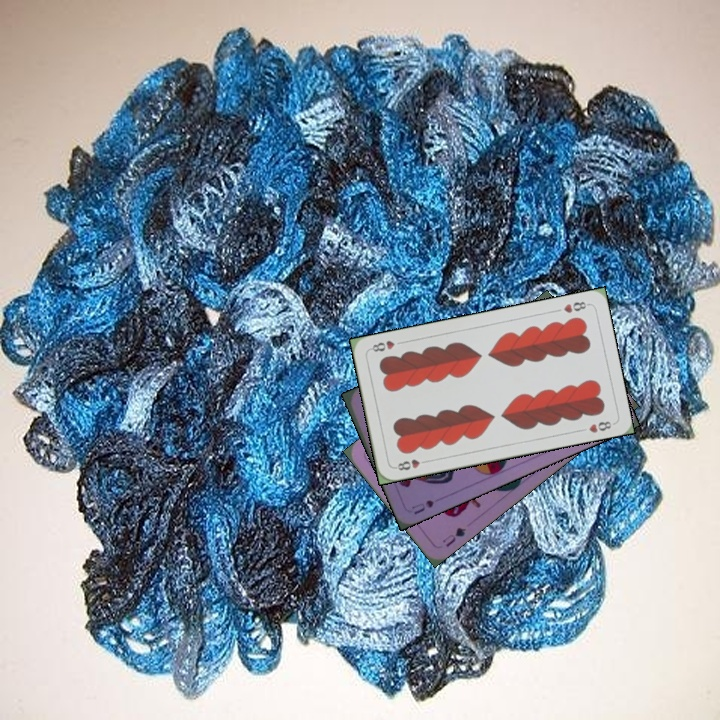GU: (438, 523, 468, 549)
H8: (391, 455, 431, 473), (560, 297, 592, 316)
SU: (407, 496, 436, 517)
